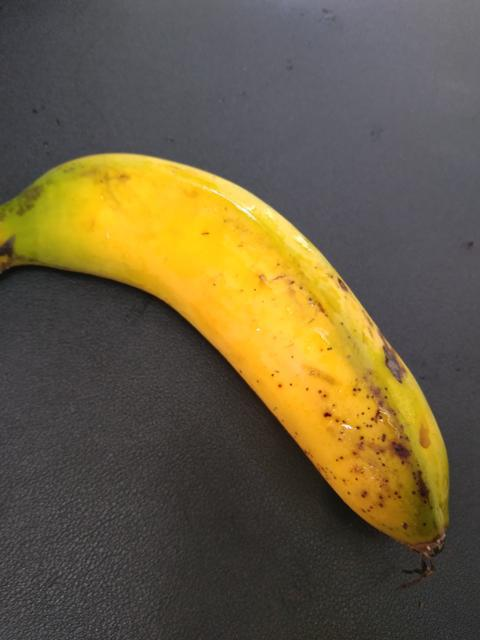ripe: (16, 143, 457, 584)
